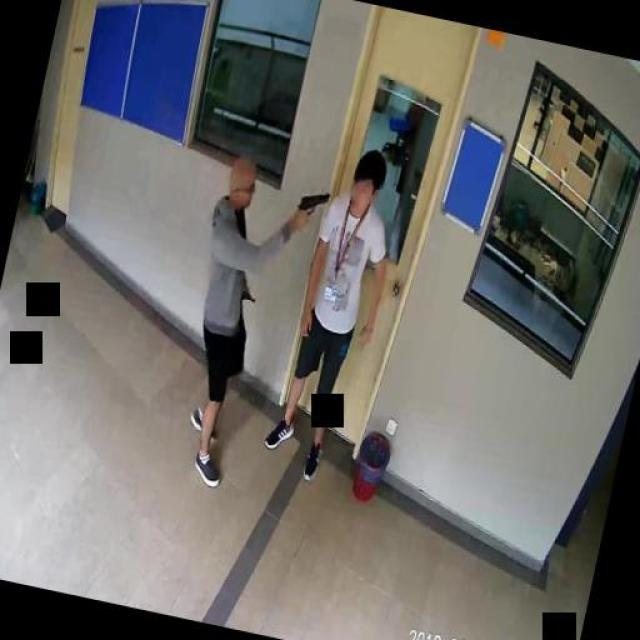gun: (292, 186, 328, 232)
